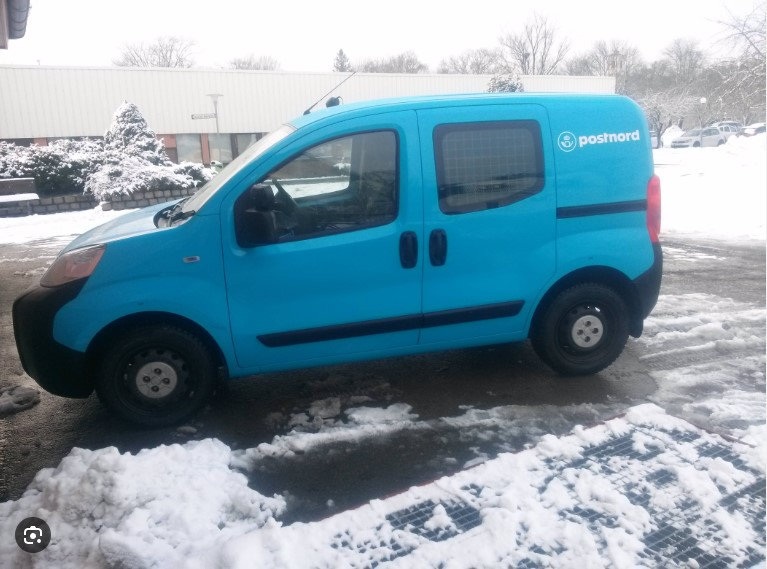postnord: (9, 88, 666, 435)
